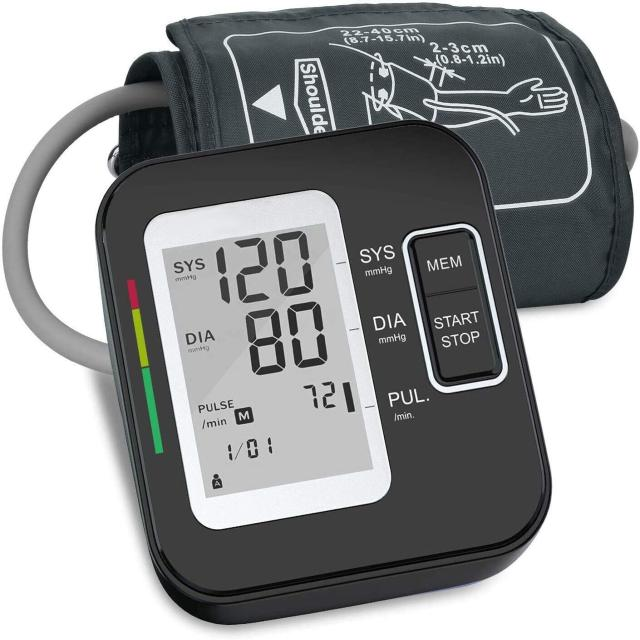dia: (236, 291, 346, 381)
pul: (294, 372, 347, 423)
ssd: (158, 218, 374, 504)
sys: (202, 221, 323, 310)
